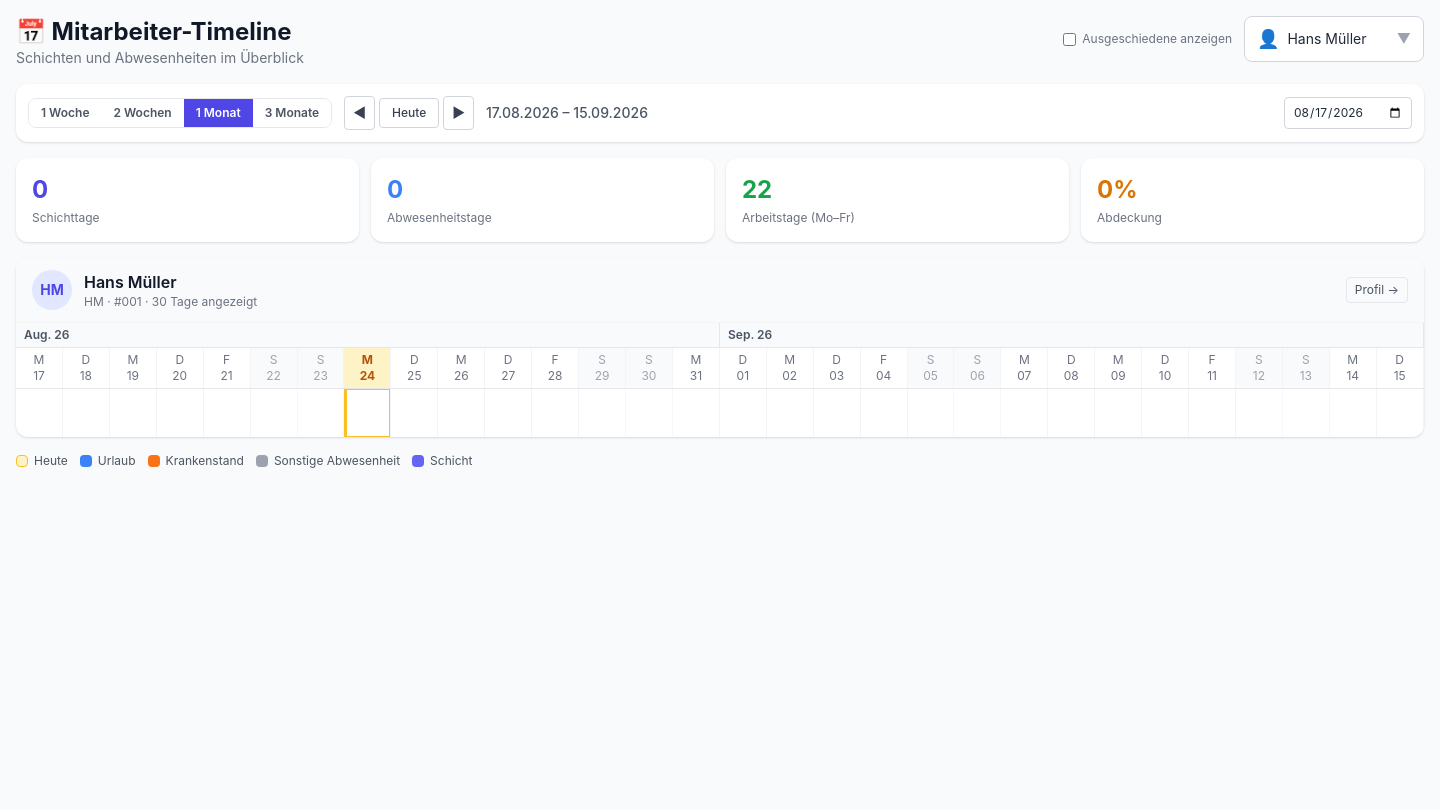
Test: EmployeeTimeline › uses list view for 1-week period (7 days)
// Switch to 1 week
Click the button "1 Woche" at (65, 113), box 29,99 -> 102,127
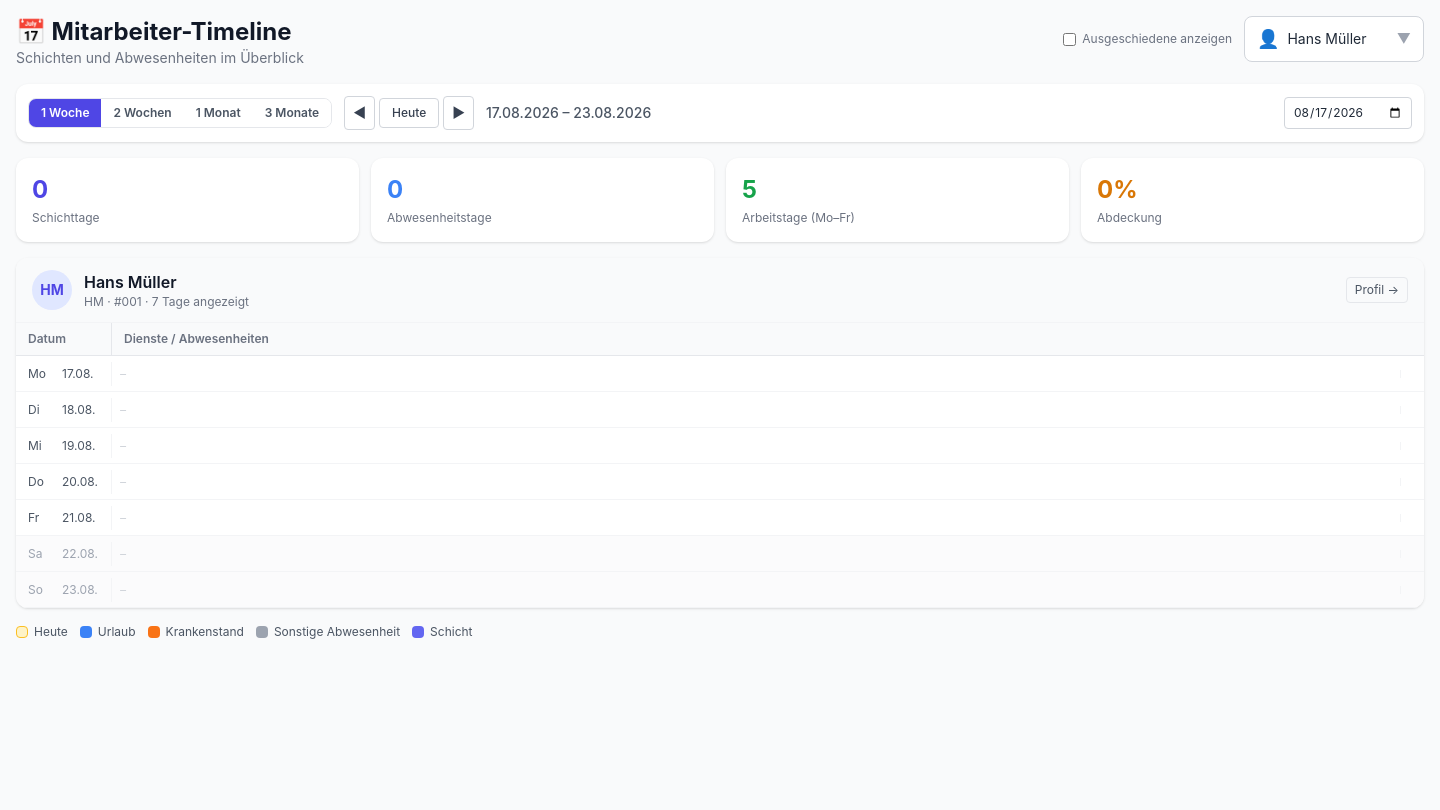
Check: the text "Datum" is shown, box 16,323 -> 112,355
